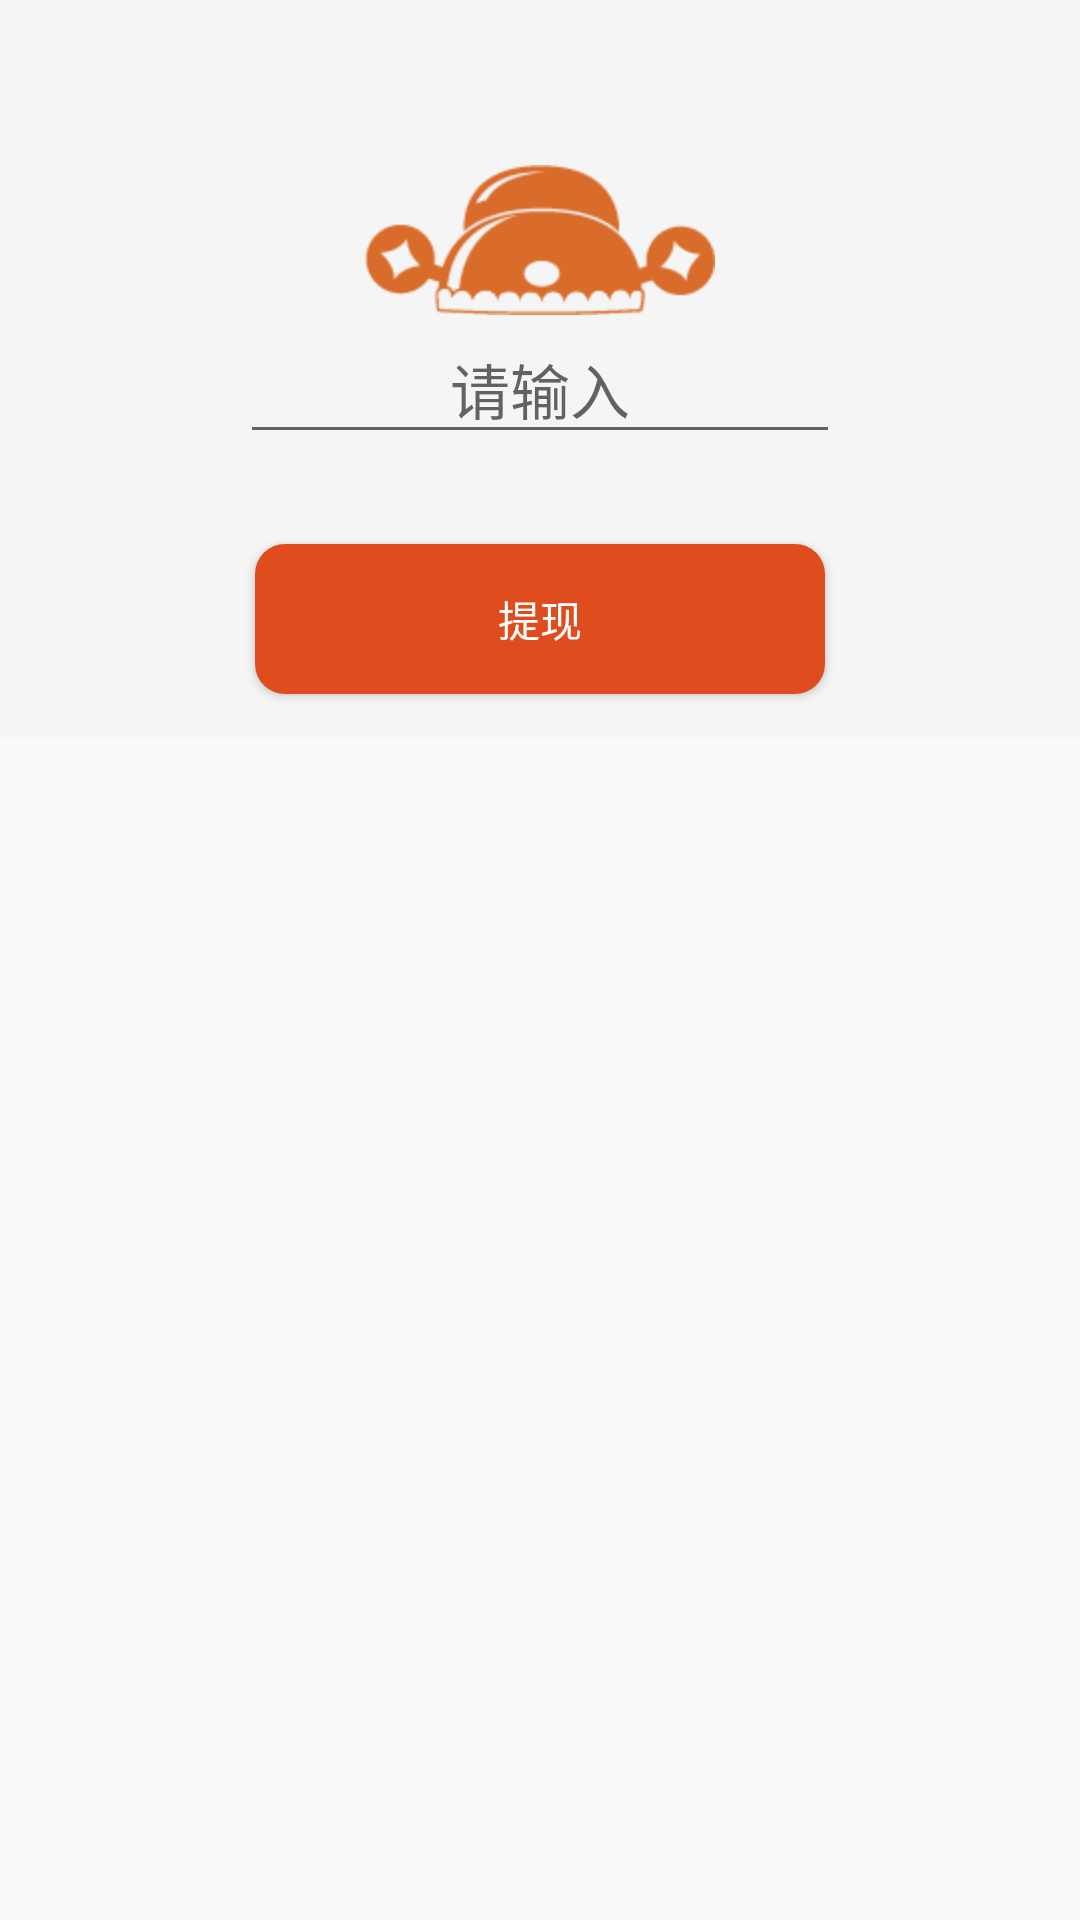

Icon bounding boxes for this 1080w x 1920h phone screenshot, format (x1, y1, x2, y2):
caishen: (365, 165, 715, 315)
